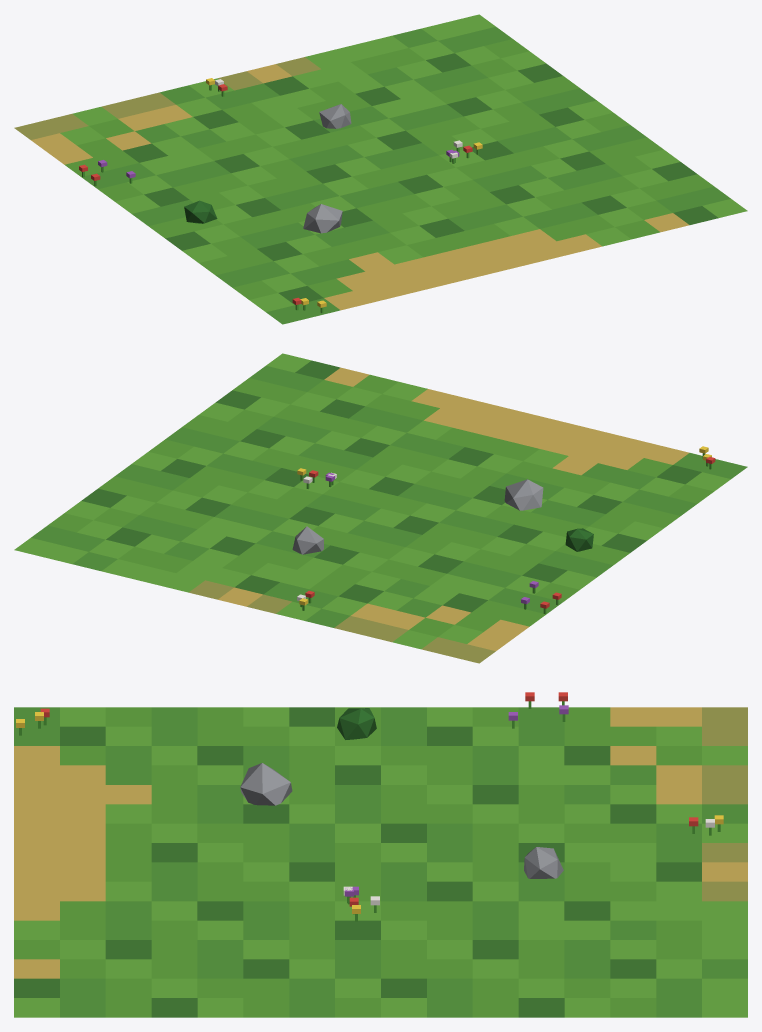
The model's file is chunk_8_7.glb.
3 renders of one model, top to bottom at view 1: azimuth 30°, elevation 25°; view 2: azimuth 150°, elevation 25°; view 3: azimuth 270°, elevation 25°, orthographic. The views are drawn at different scales.
Visible parts, largest first — view 1: chunk_8_7; view 2: chunk_8_7; view 3: chunk_8_7.
Part boxes in pixels (x1,y1,x2,y2): chunk_8_7: (14,14,747,324); chunk_8_7: (14,353,747,663); chunk_8_7: (14,692,747,1017).
Bounding box in the file's own units: 16.03 × 1.12 × 16.
